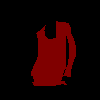maglia: (30, 20, 76, 86)
